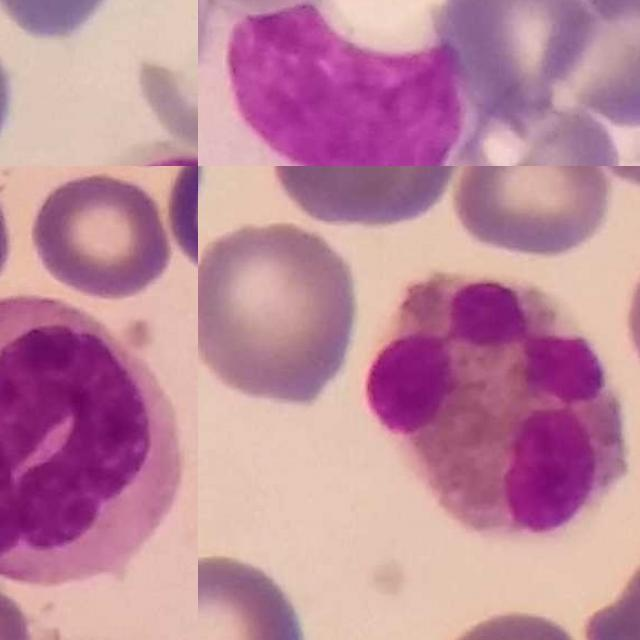Eosinophil: (362, 272, 635, 539)
Monocyte: (0, 291, 183, 587), (198, 0, 479, 166)
